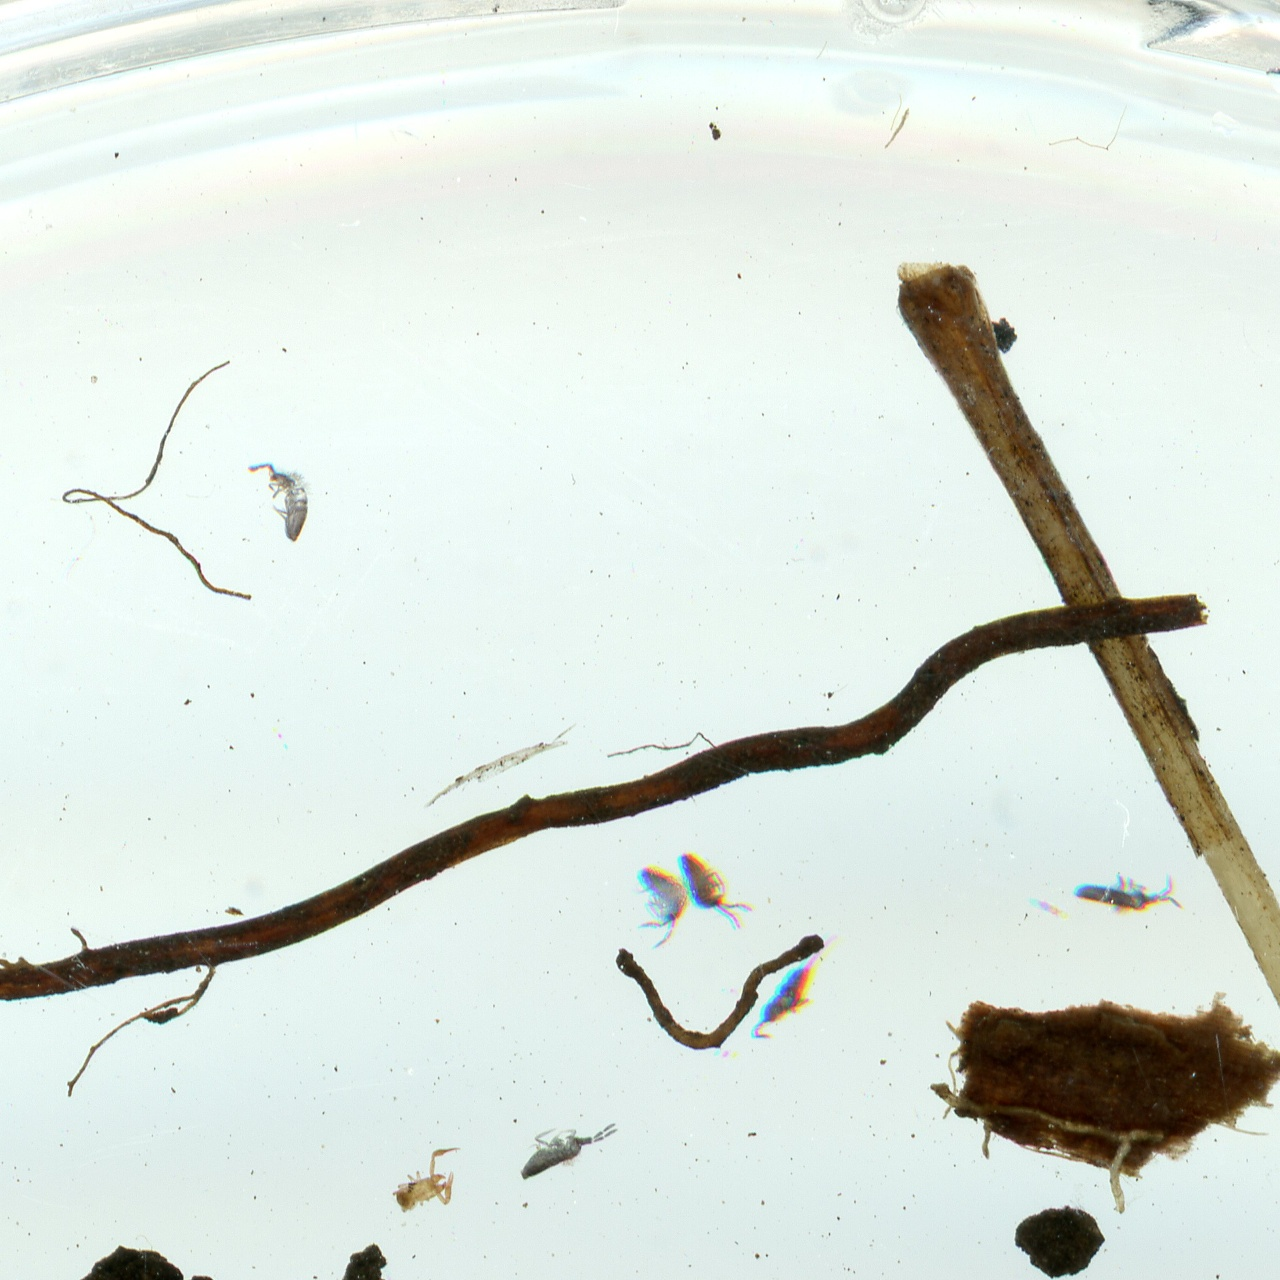arthropod: (738, 908, 862, 1058), (491, 1101, 628, 1193), (672, 831, 762, 945), (612, 851, 707, 958), (241, 455, 314, 549), (1069, 867, 1186, 918), (390, 1145, 463, 1216)
